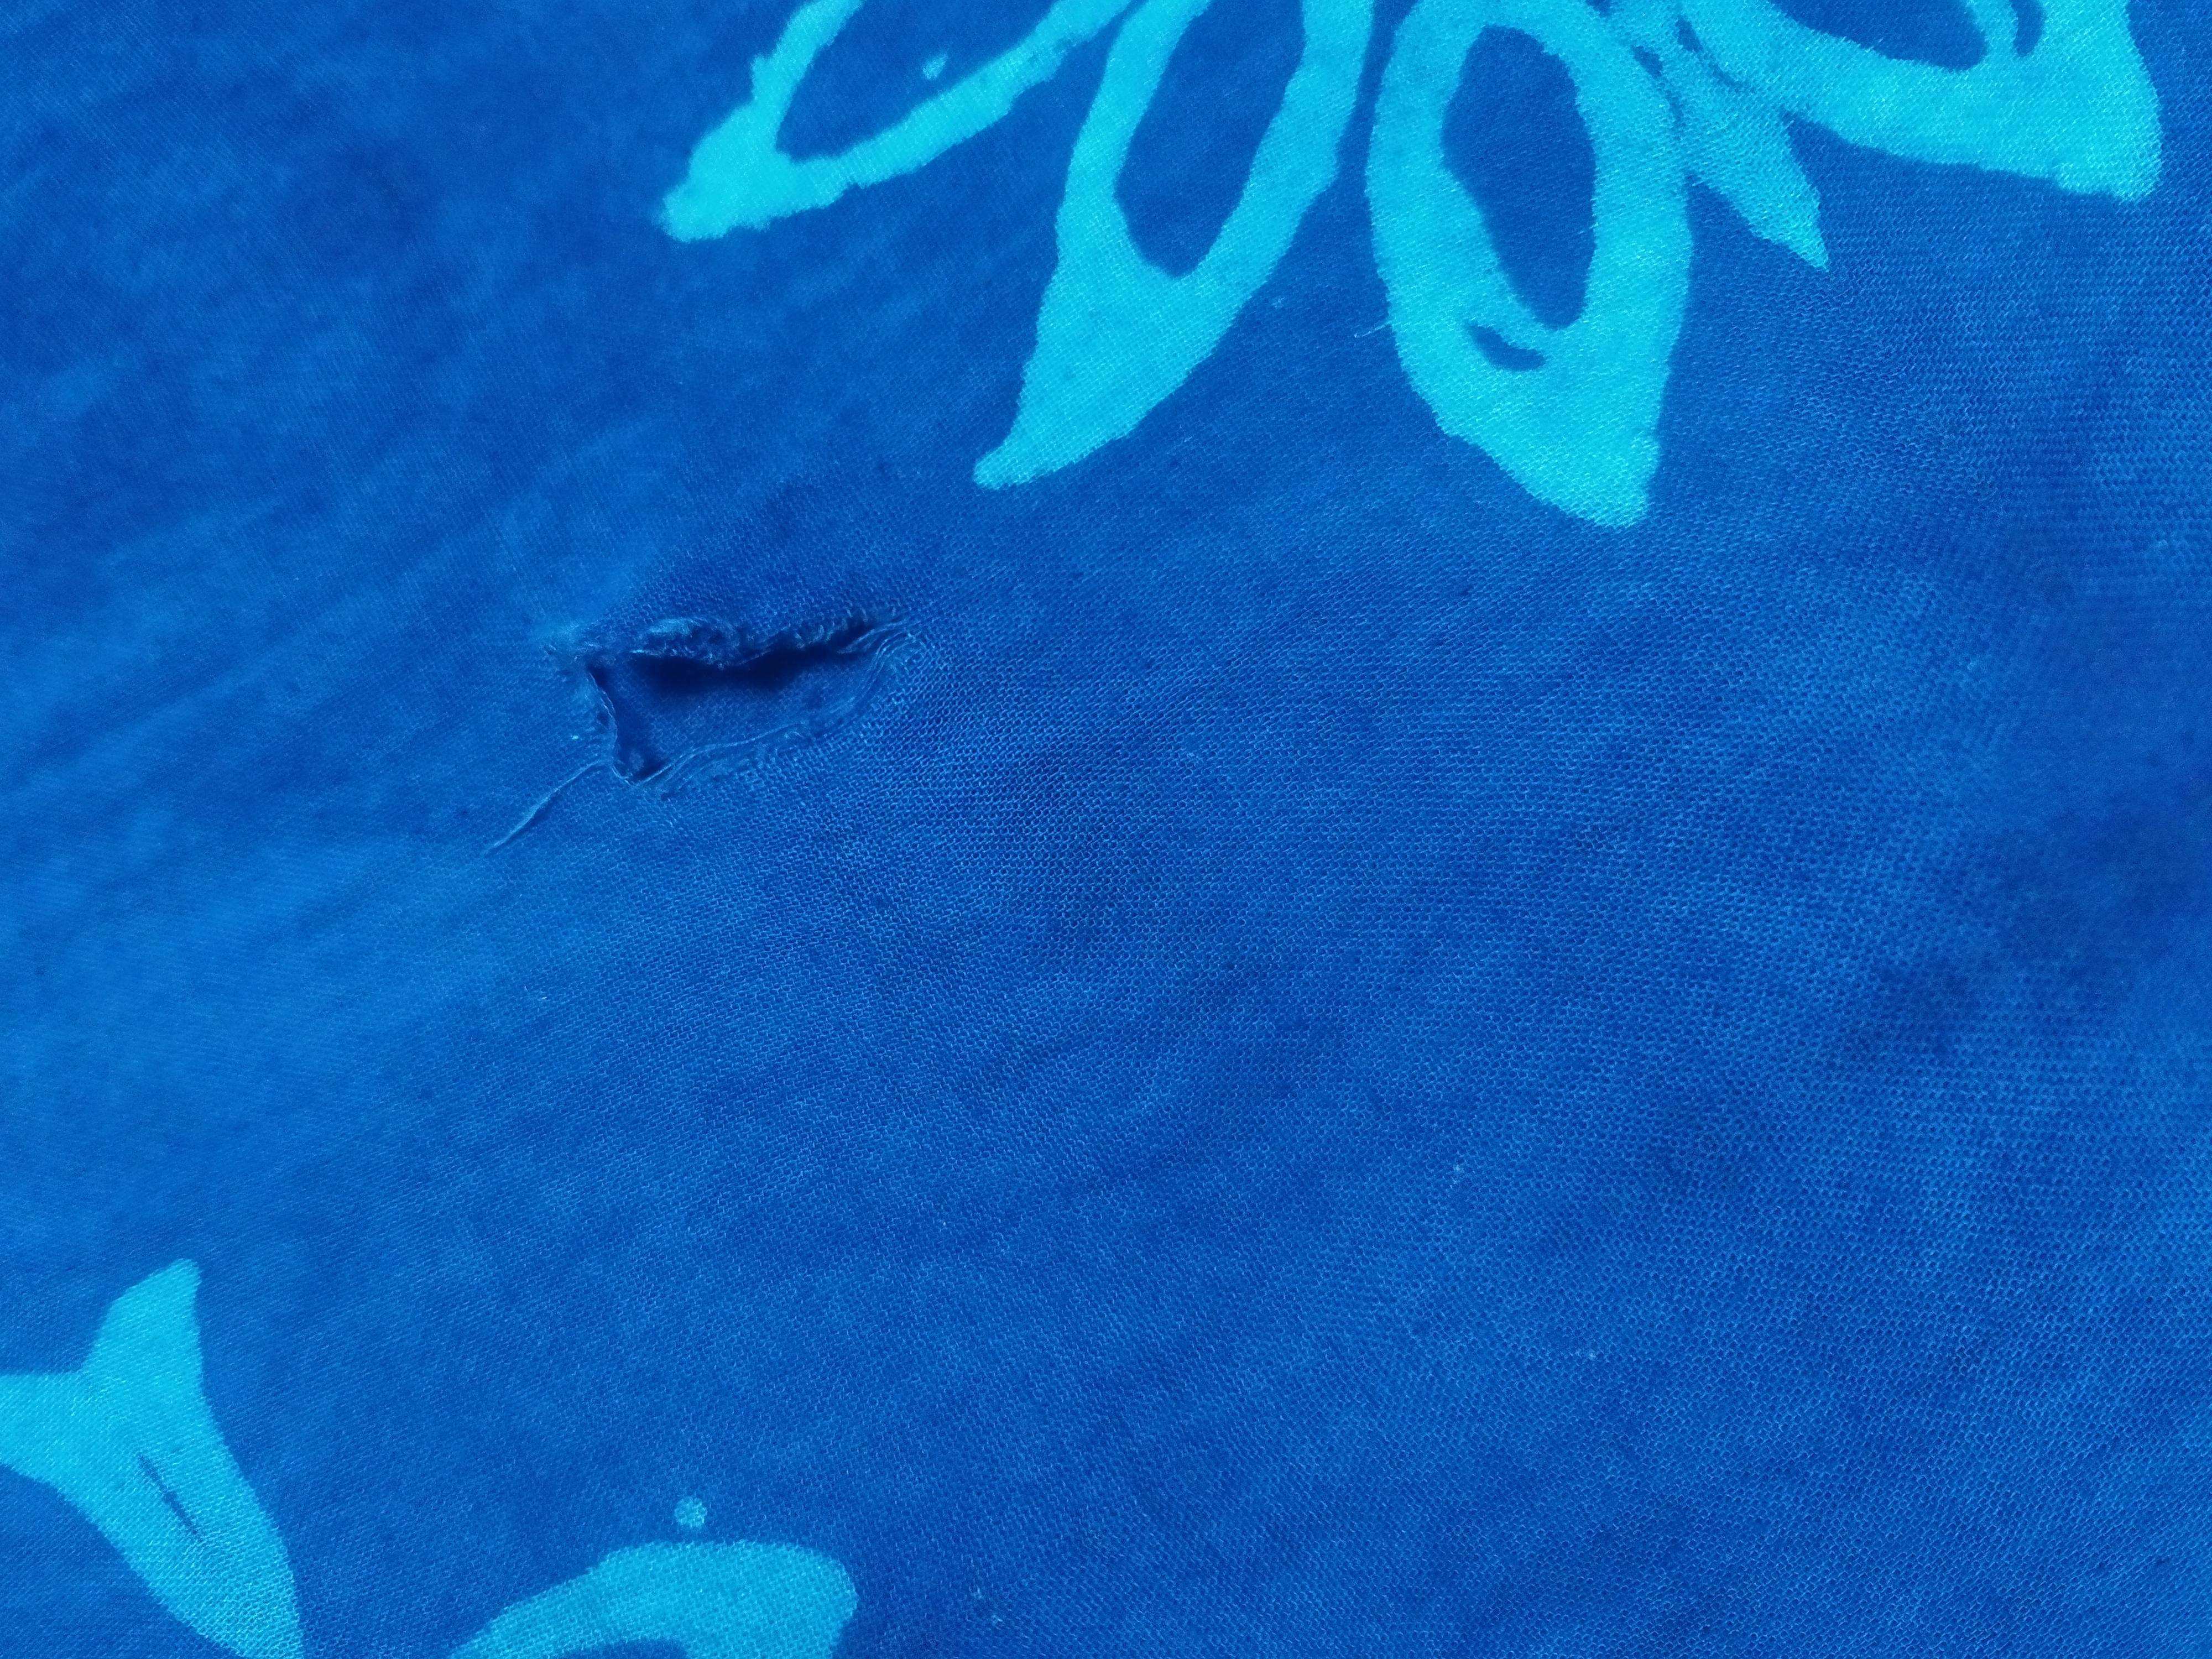hole: (540, 566, 939, 828)
